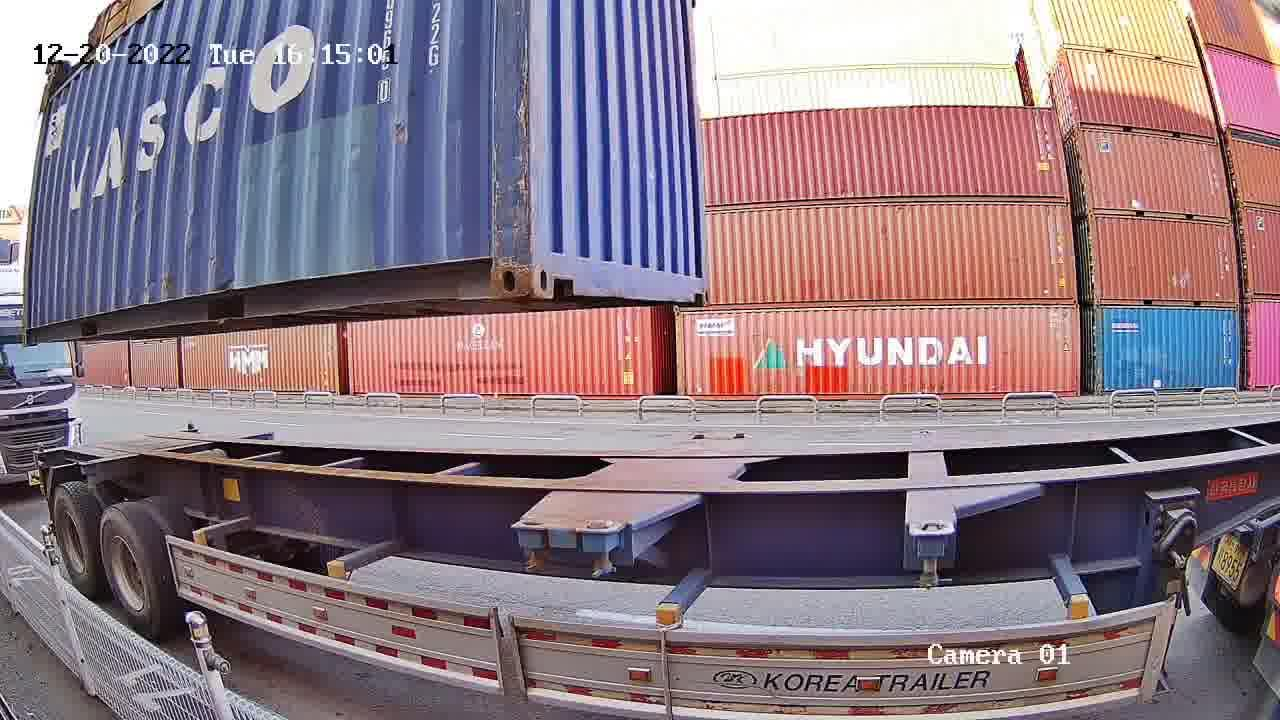Chassis: (515, 432, 714, 527), (580, 433, 753, 529)
Cone: (578, 519, 618, 584), (517, 517, 548, 578)
Hole_L: (531, 228, 586, 299)
Hole_R: (457, 232, 528, 299), (679, 264, 713, 304)
Tire: (99, 507, 166, 638), (52, 483, 97, 591)
